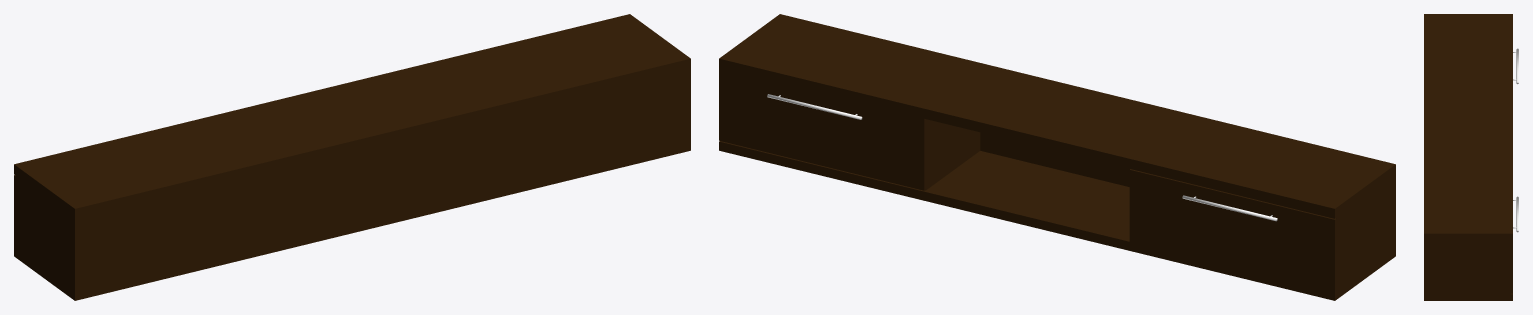
Rendered from mesaTv.FBX.
3 views of the same model, side by side, from view 1: azimuth 30°, elevation 25°; view 2: azimuth 150°, elevation 25°; view 3: azimuth 270°, elevation 25° (orthographic). The views are drawn at different scales.
Parts seen in each view (by area): view 1: Base; view 2: Base, Cube, cajon1; view 3: Base, cajon1, Cube.
Boxes of the visible parts, bbox=[...] form: Base: bbox=[14, 14, 690, 300]; Base: bbox=[719, 14, 1395, 300]; Cube: bbox=[1129, 169, 1336, 291]; cajon1: bbox=[719, 68, 925, 190]; Base: bbox=[1424, 14, 1512, 300]; cajon1: bbox=[1510, 196, 1518, 293]; Cube: bbox=[1513, 48, 1518, 84].
Bounding box in the file's own units: 210 × 30 × 38.36.
